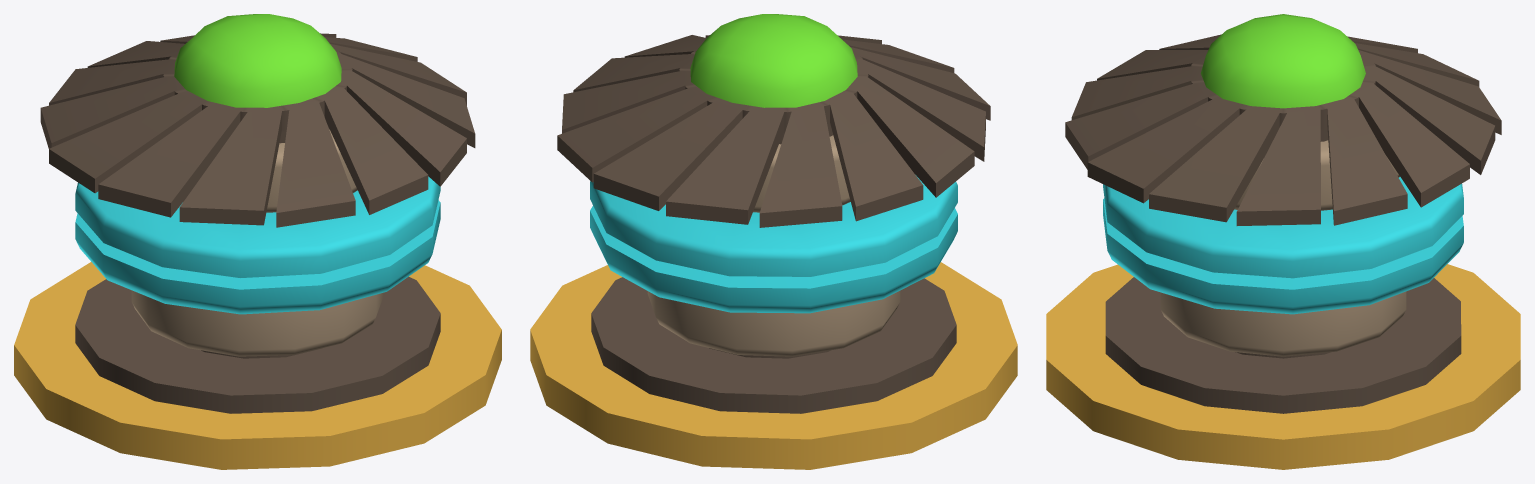
Rendered from Move_02.fbx.
3 views of the same model, side by side, from view 1: azimuth 30°, elevation 25°; view 2: azimuth 150°, elevation 25°; view 3: azimuth 270°, elevation 25° (orthographic).
Parts seen in each view (by area): view 1: pCylinder27; view 2: pCylinder27; view 3: pCylinder27.
Part boxes in pixels (x1=…): pCylinder27: x1=14, y1=14, x2=501, y2=469; pCylinder27: x1=530, y1=14, x2=1017, y2=469; pCylinder27: x1=1046, y1=14, x2=1520, y2=469.
Size of the model in its own units: 6.55 by 5.05 by 6.38.
Materials: 1 (1 with a texture image).
